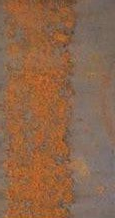Corrosion: (1, 1, 78, 218)
